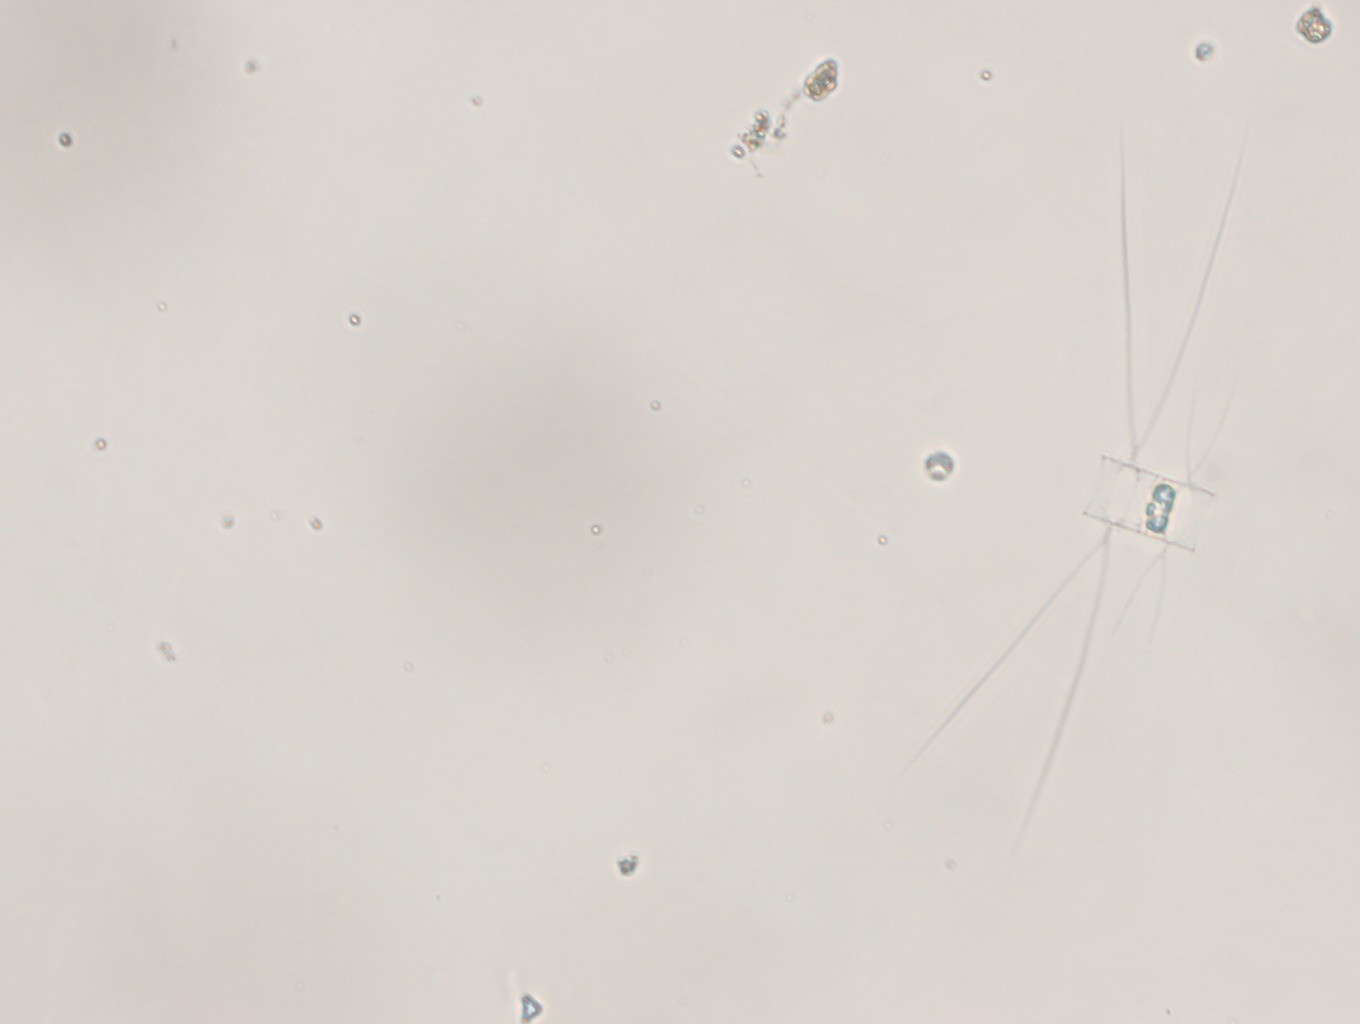chaetoceros: (898, 127, 1284, 850)
